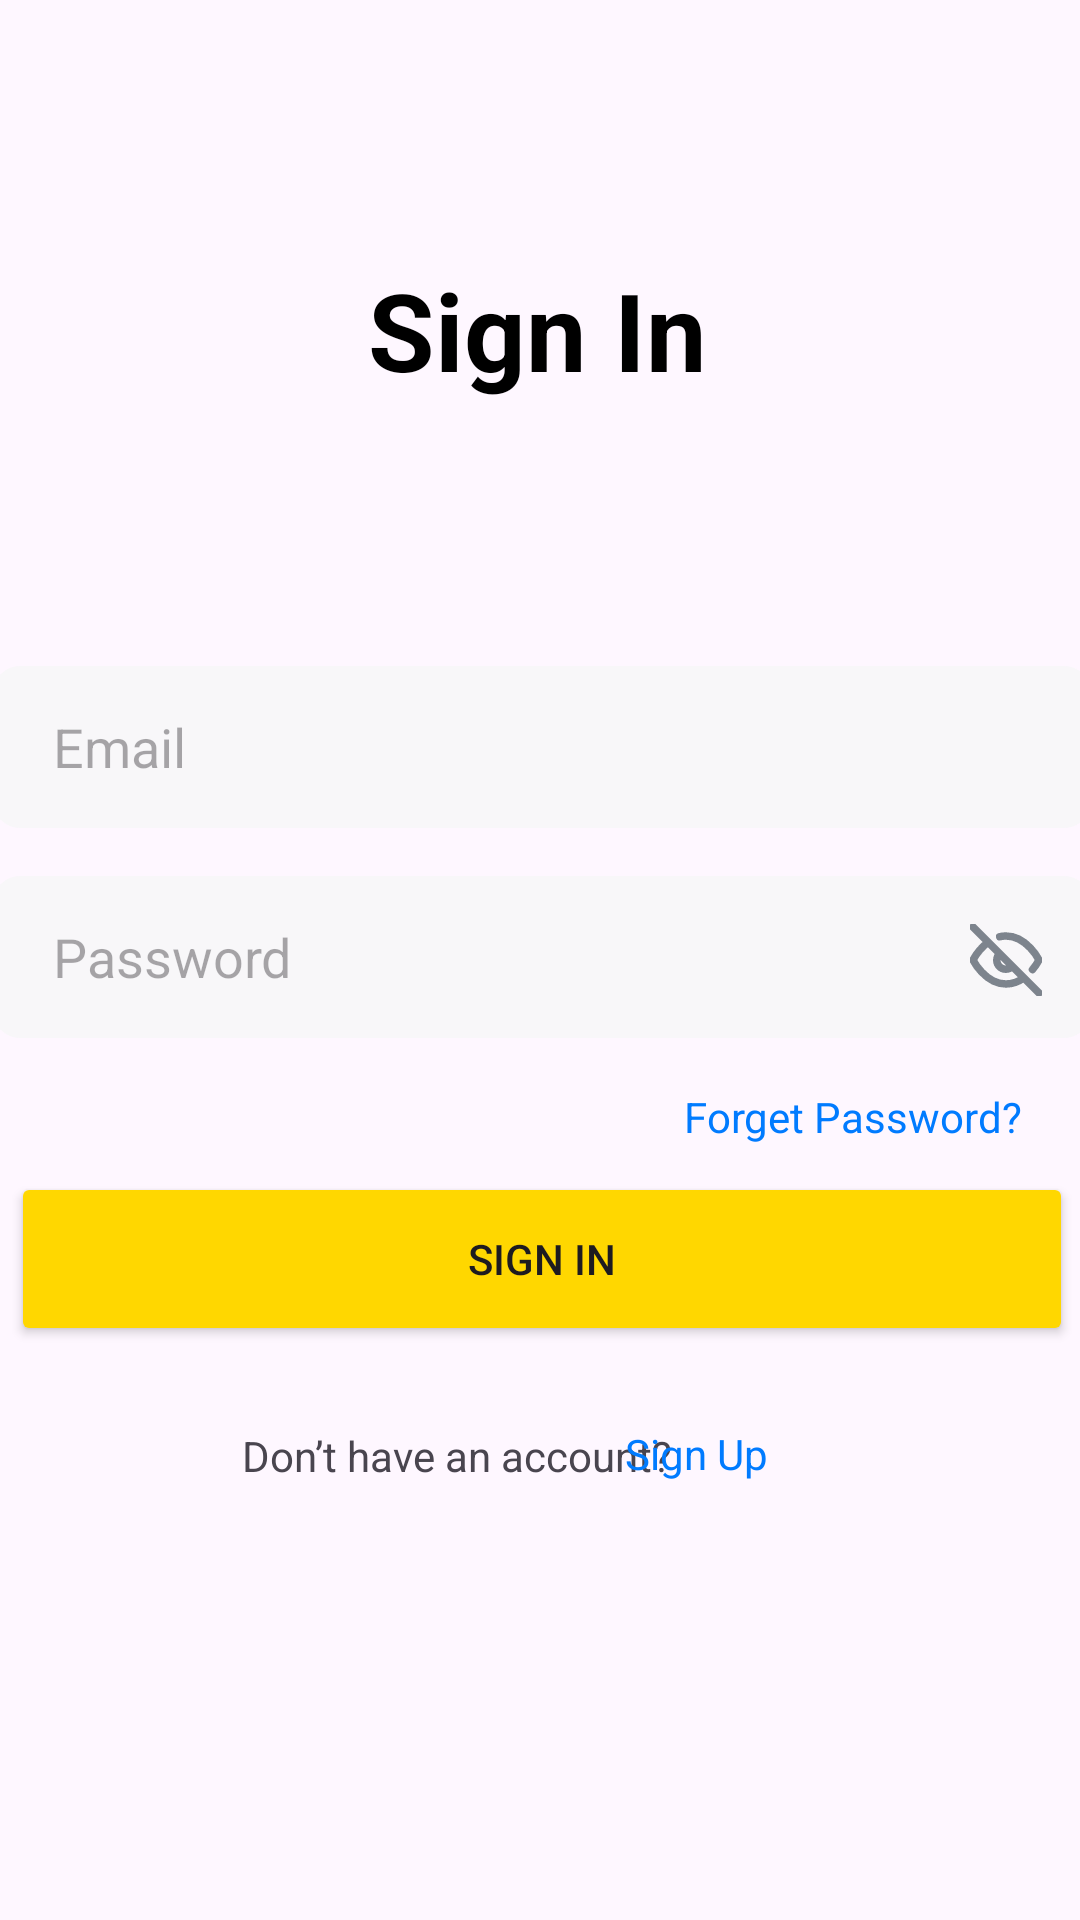

Named icons in this screenshot (1080×1920) and their centers, (x=x, y=y):
hidepass: (x=1006, y=960)
